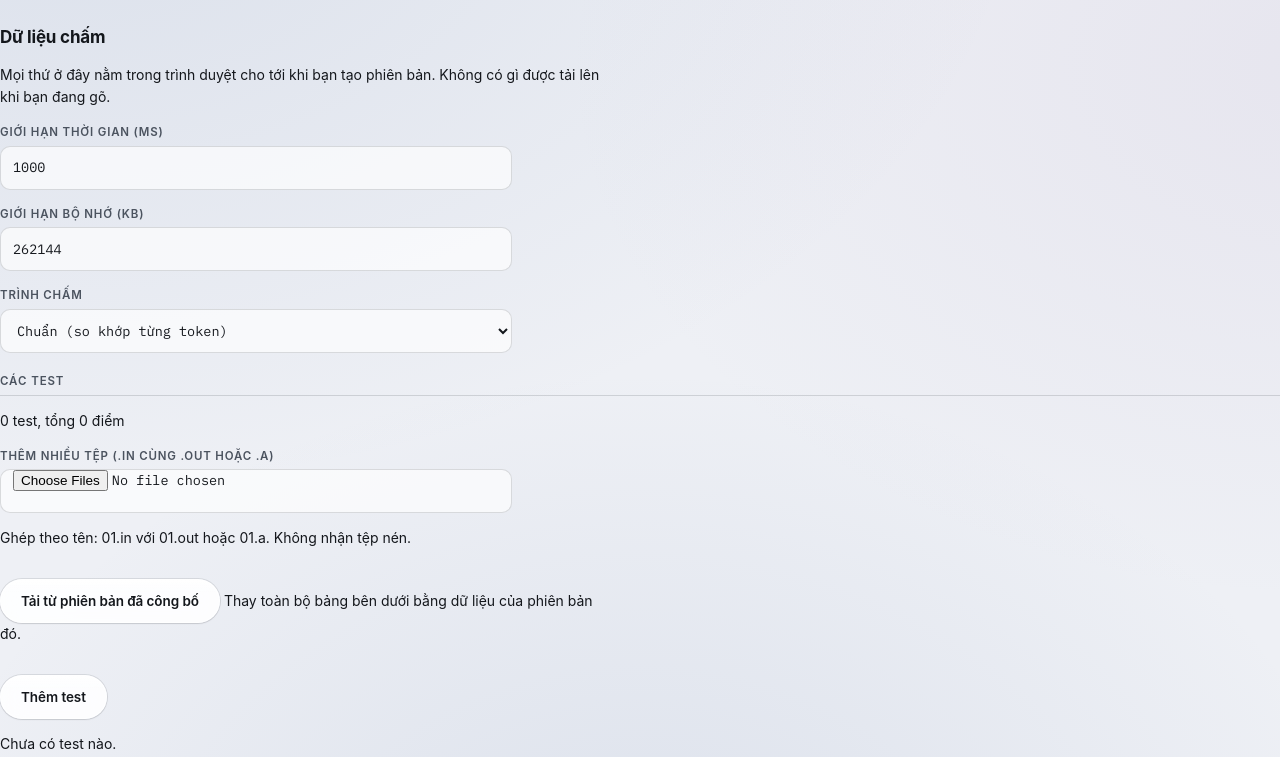
the test-data tab › a sample is worth nothing, and says so in the total
Click the button "Thêm test".
click(53, 697)  # box [0, 675, 107, 719]
(page scrolled)
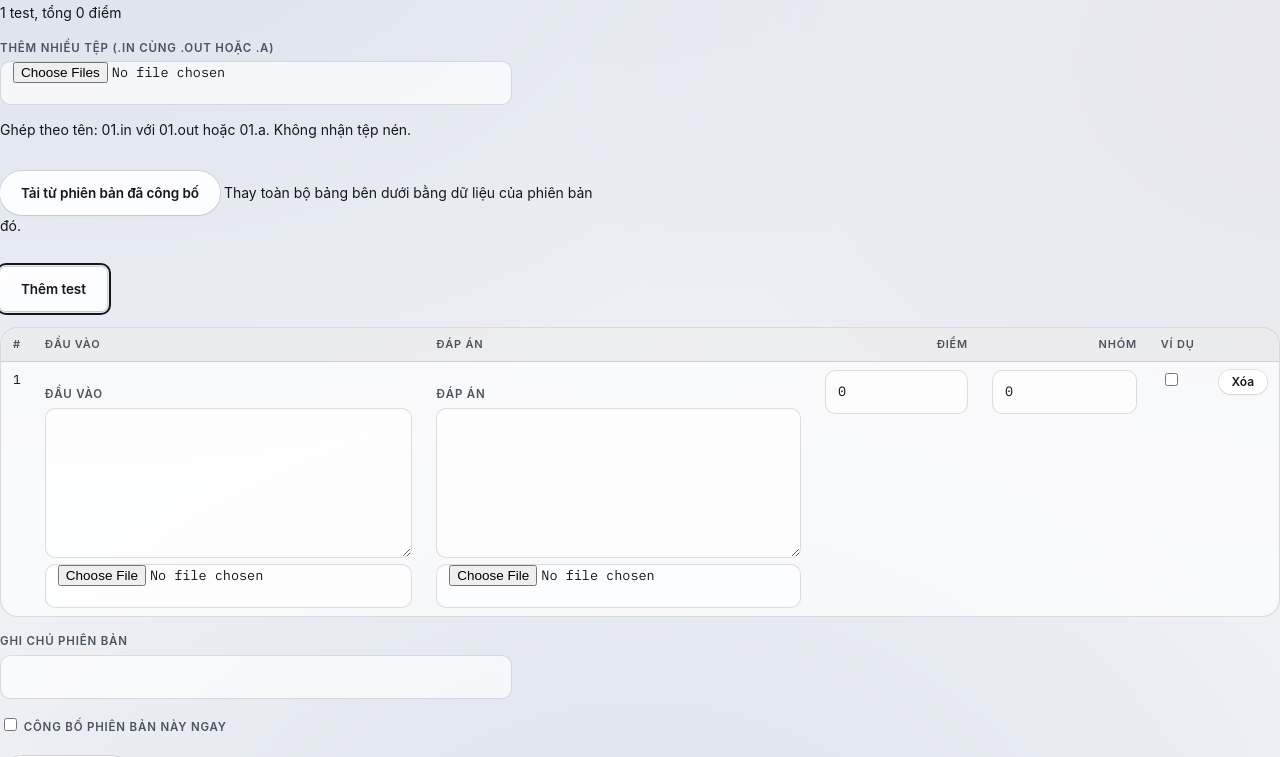
Type "1 2" into the text box labelled "Đầu vào".
click(229, 483); type("1 2")  # box [45, 408, 412, 558]
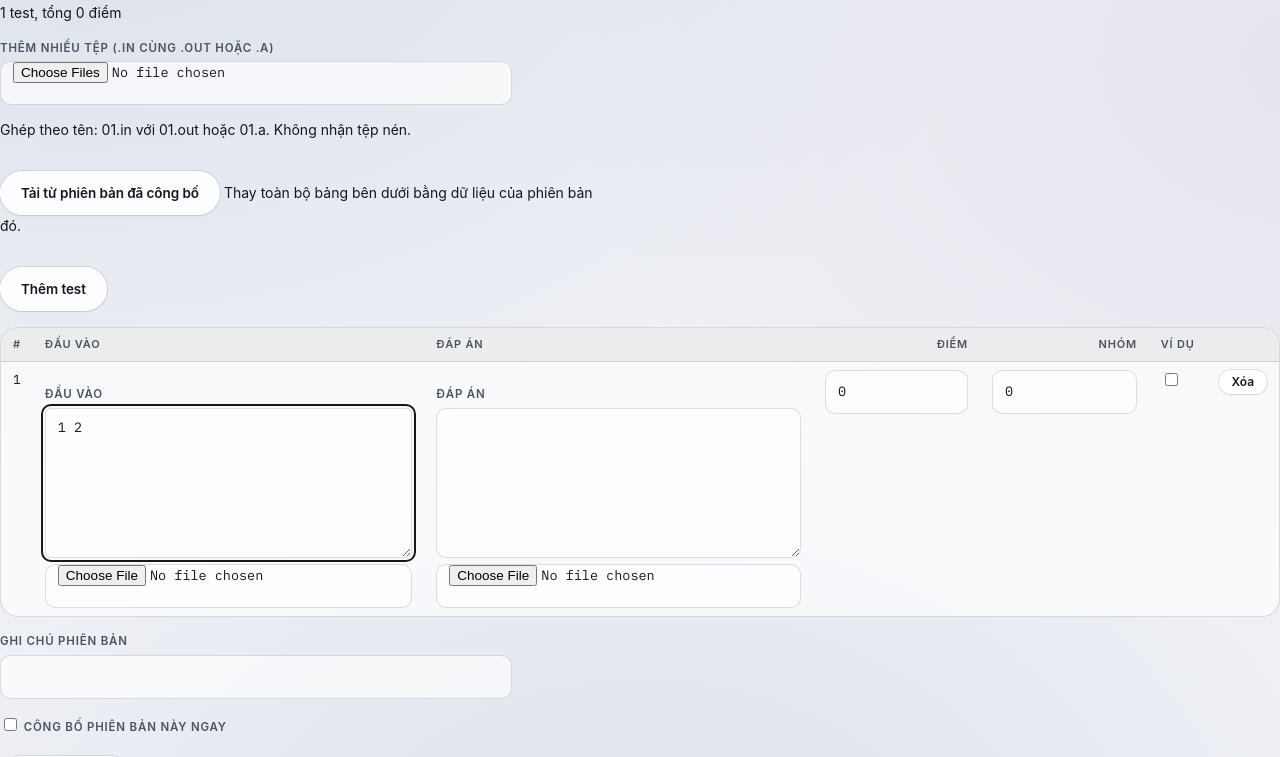
Type "3" into the text box labelled "Đáp án".
click(619, 483); type("3")  # box [436, 408, 801, 558]
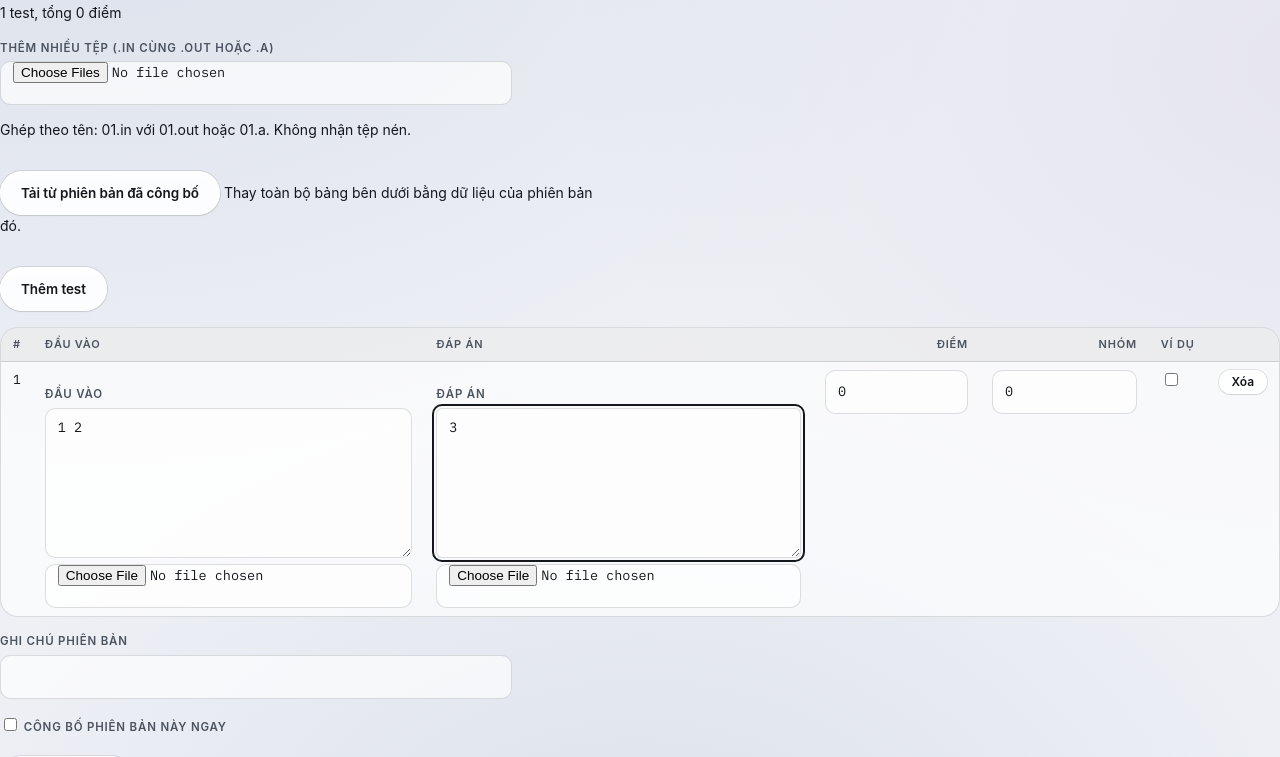
Replace the text in the number field named "Điểm của test 1" with "40" at (896, 392), box [825, 370, 968, 414]
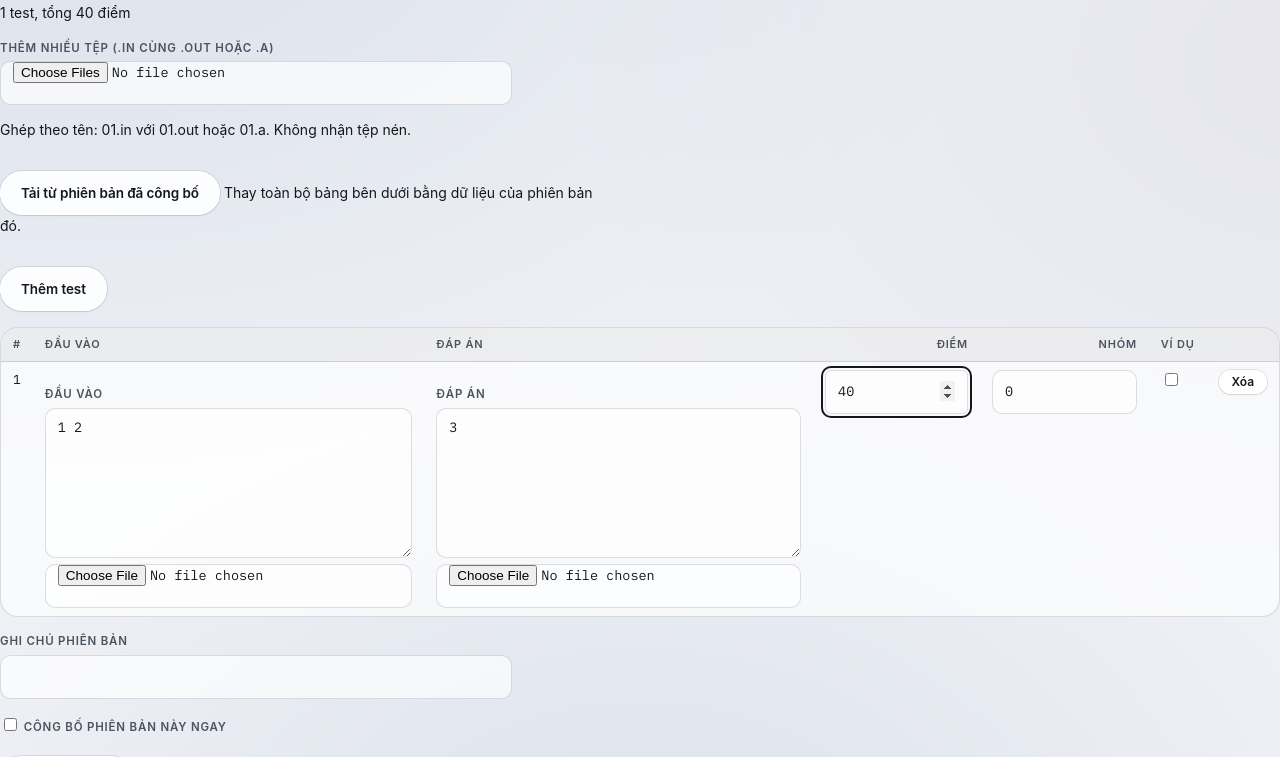
expect the text "1 test, tổng 40 điểm" is shown: met, box [0, 4, 130, 21]
Click the checkbox named "Test 1 là ví dụ".
click(1171, 379)  # box [1165, 373, 1178, 386]
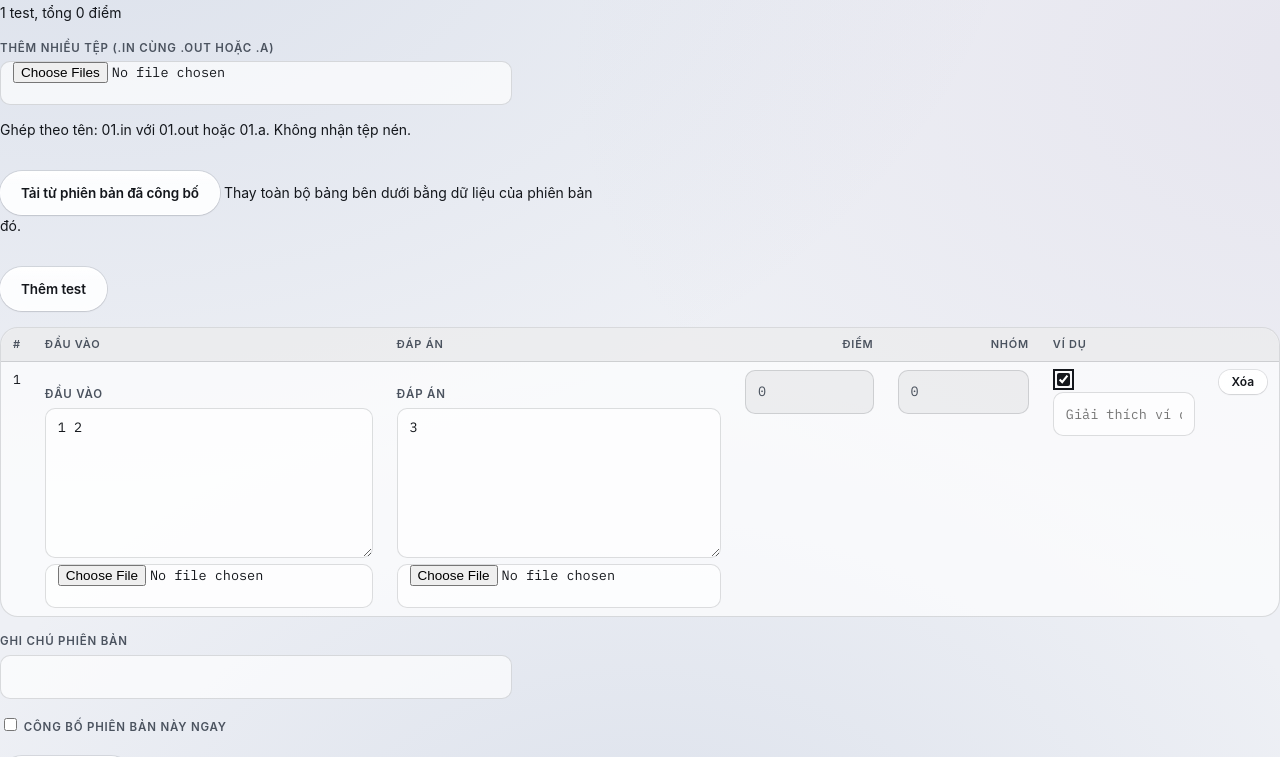
expect the number field named "Điểm của test 1" is disabled: met, box [745, 370, 874, 414]
expect the text "1 test, tổng 0 điểm" is shown: met, box [0, 4, 122, 21]
